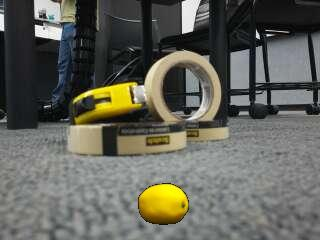lemon: (140, 184, 190, 224)
